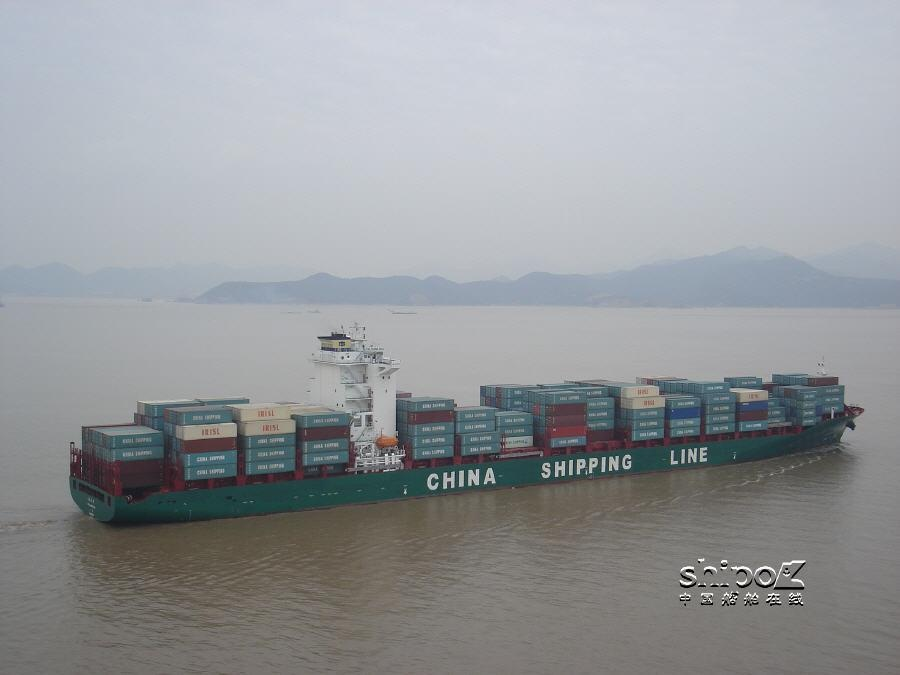Cargoship: (65, 318, 873, 537)
